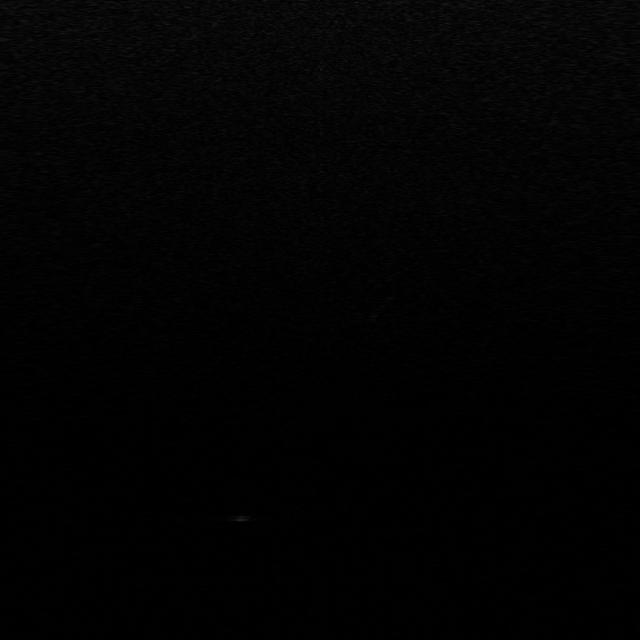ball: (227, 510, 256, 525)
